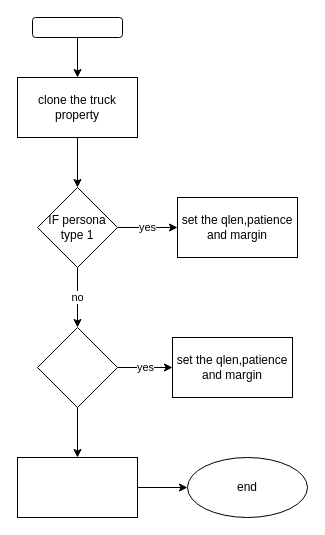
Image size: 325x535. Some labels were removed from this diagram. The shapes that lost their labels are listed below. From the top down, each one's centre as x and y in pixels, then its label:
At point (77, 27): "start".
At point (77, 367): "ELSE IF persona type 2".
At point (77, 487): "return property object".
